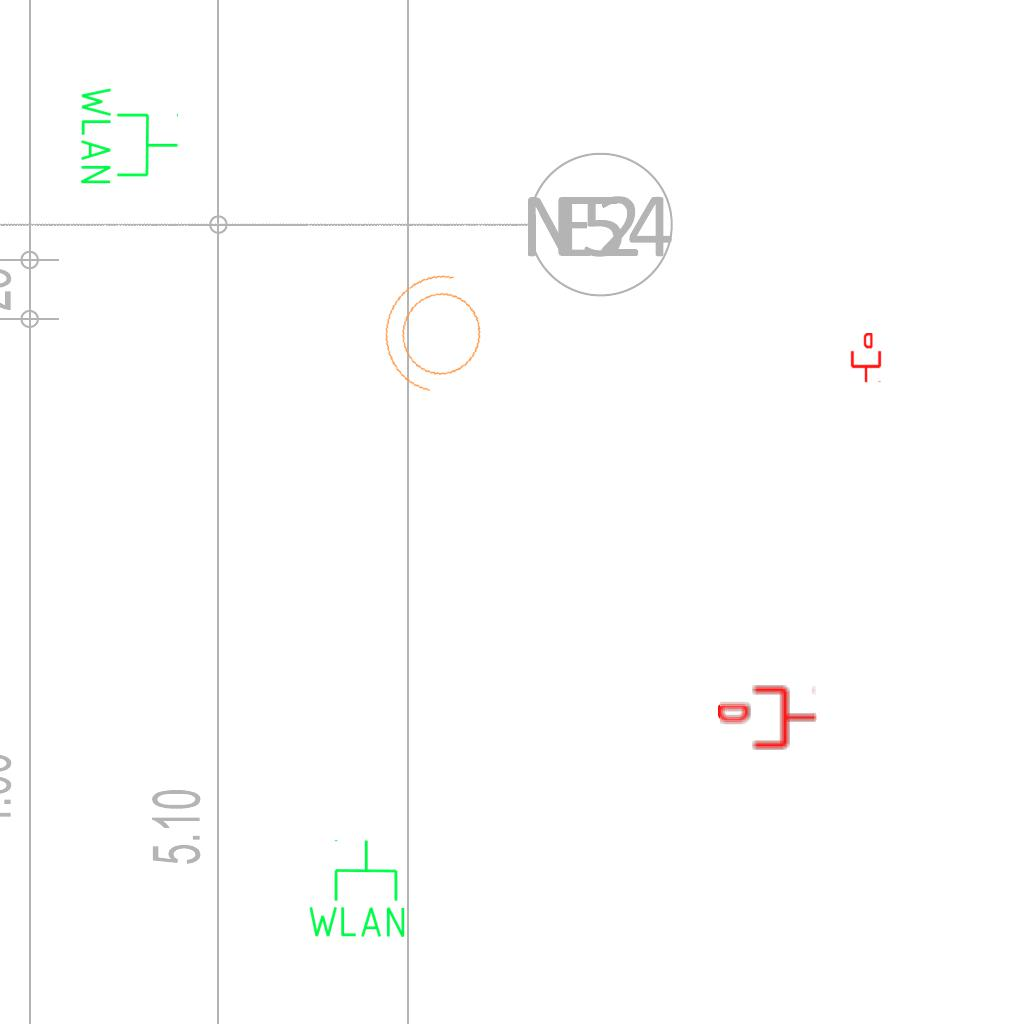Datenanschluss_einfach: (718, 683, 818, 752), (849, 333, 883, 383)
Scheinwerfer_fuer_Alarmbeleuchtung: (367, 259, 505, 413)
WLAN: (304, 837, 409, 941), (77, 83, 181, 188)
